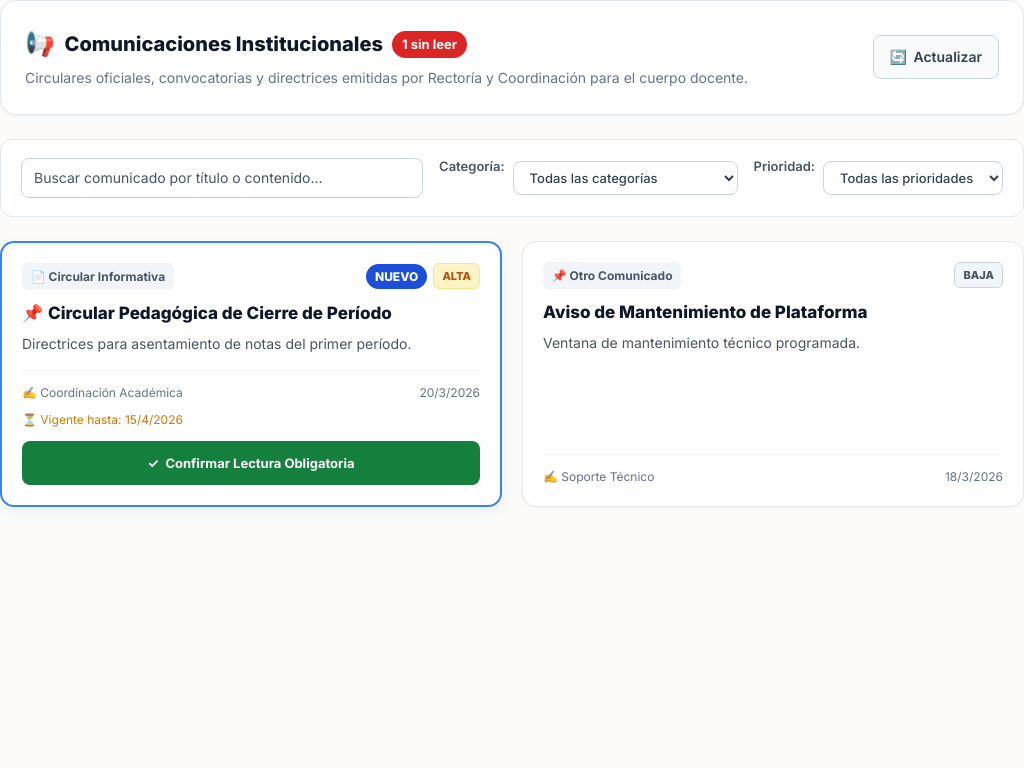
Scenario: Teacher Communications View (Phase B2) › acknowledges receipt and reflects immediate updated state
Note: Click acknowledge button
Click the text "Confirmar Lectura Obligatoria". click: click(260, 463)
box: left=165, top=453, right=354, bottom=474
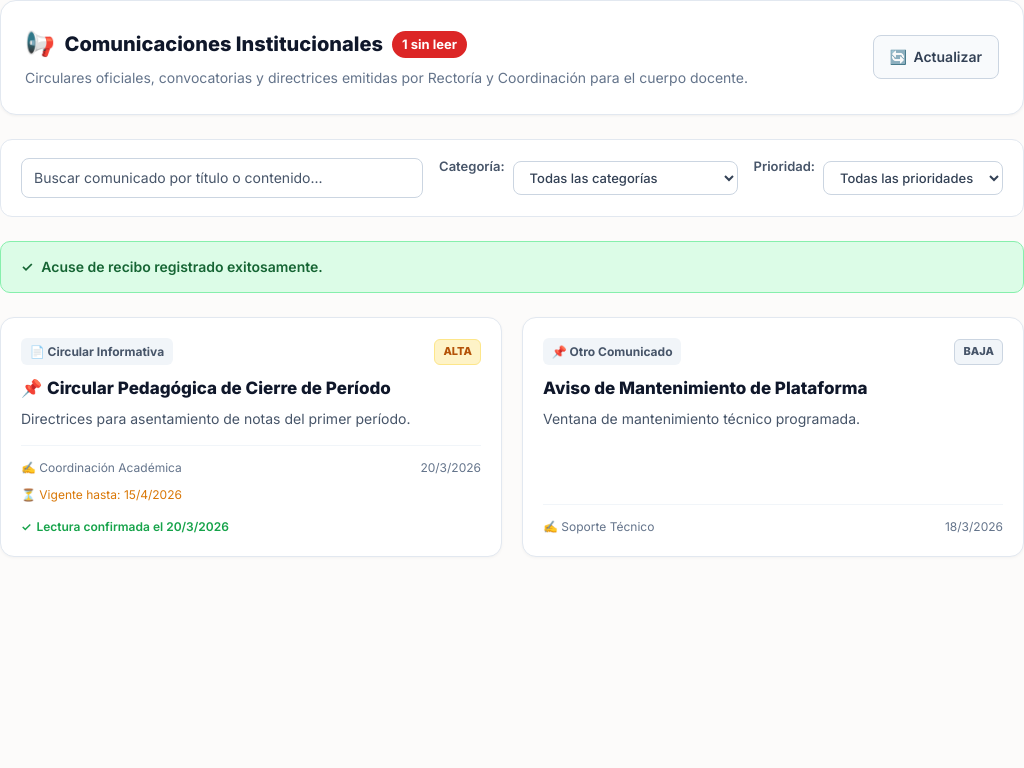
Now the text "Acuse de recibo registrado exitosamente." is shown, box left=41, top=256, right=323, bottom=278
Now the text "Lectura confirmada el 20/3/2026" is shown, box left=36, top=517, right=229, bottom=536
